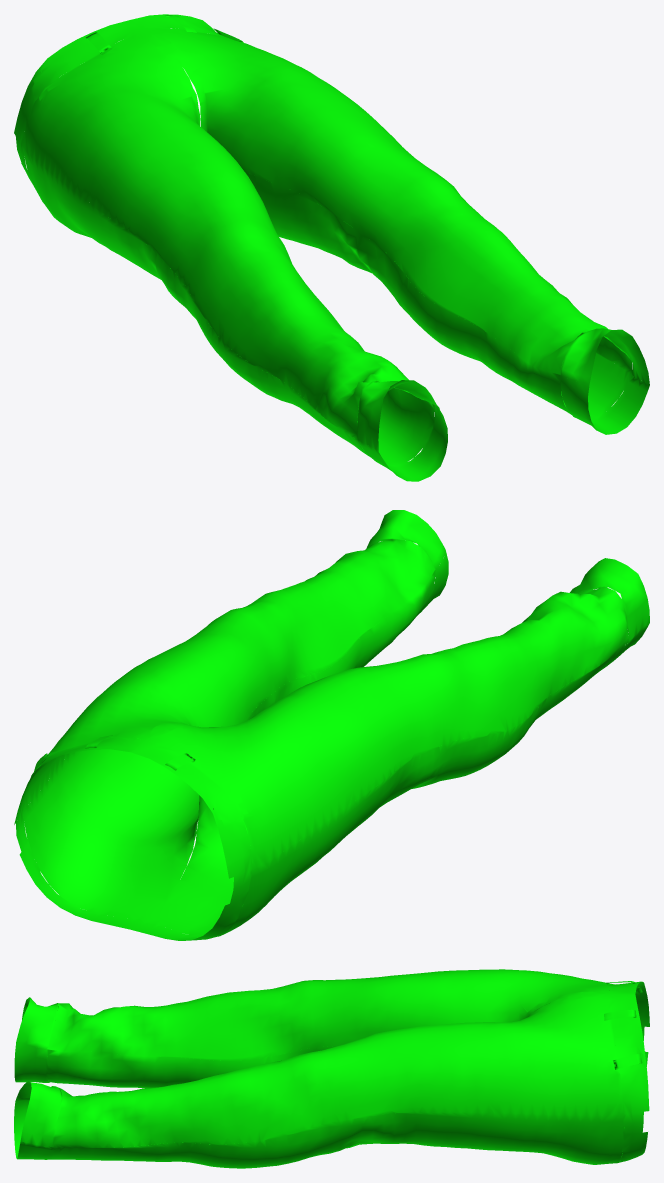
Rendered from mens bottom formal3.glb.
3 views of the same model, one above another, from view 1: azimuth 30°, elevation 25°; view 2: azimuth 150°, elevation 25°; view 3: azimuth 270°, elevation 25° (orthographic). The views are drawn at different scales.
Visible parts, largest first — view 1: pant; view 2: pant; view 3: pant.
Boxes of the visible parts, <box> form: pant: <box>14,14,649,481</box>; pant: <box>14,510,649,940</box>; pant: <box>14,969,649,1168</box>.
Size of the model in its own units: 23.73 by 14.51 by 57.09.
